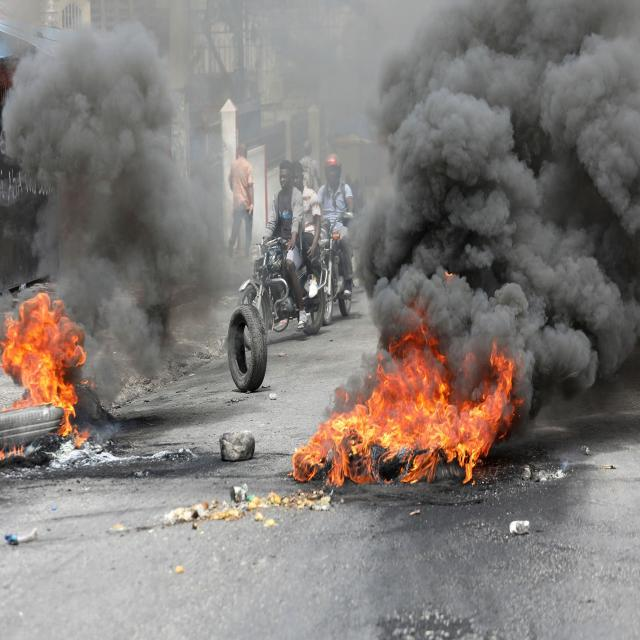fire: (293, 327, 523, 489), (0, 293, 89, 449)
